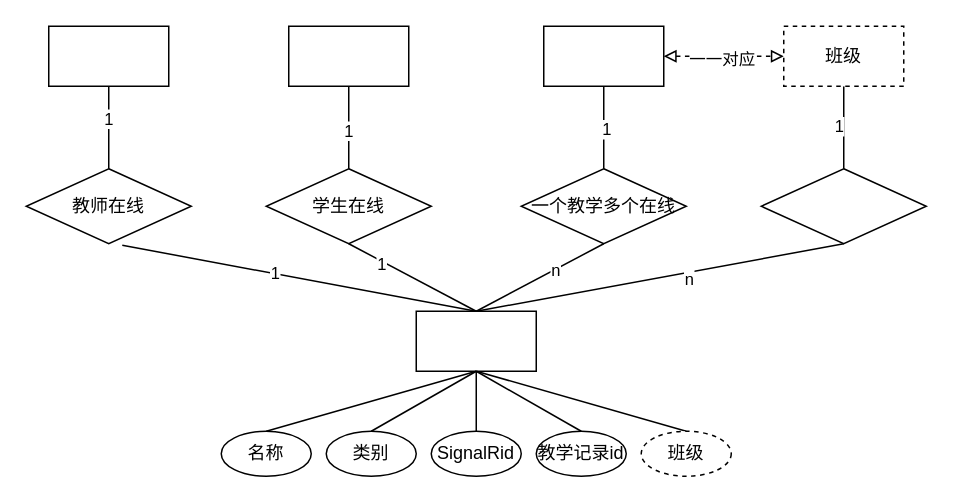
Some shapes in this 953 by 503 pixel diagram are drawn without their labels. The centre of each missing label's shape, as x and y in pixels:
"一个班级多个在线" goes at point (843, 205).
"在线表" goes at point (475, 340).
"学生" goes at point (348, 55).
"教学记录" goes at point (603, 55).
"教师" goes at point (108, 55).
